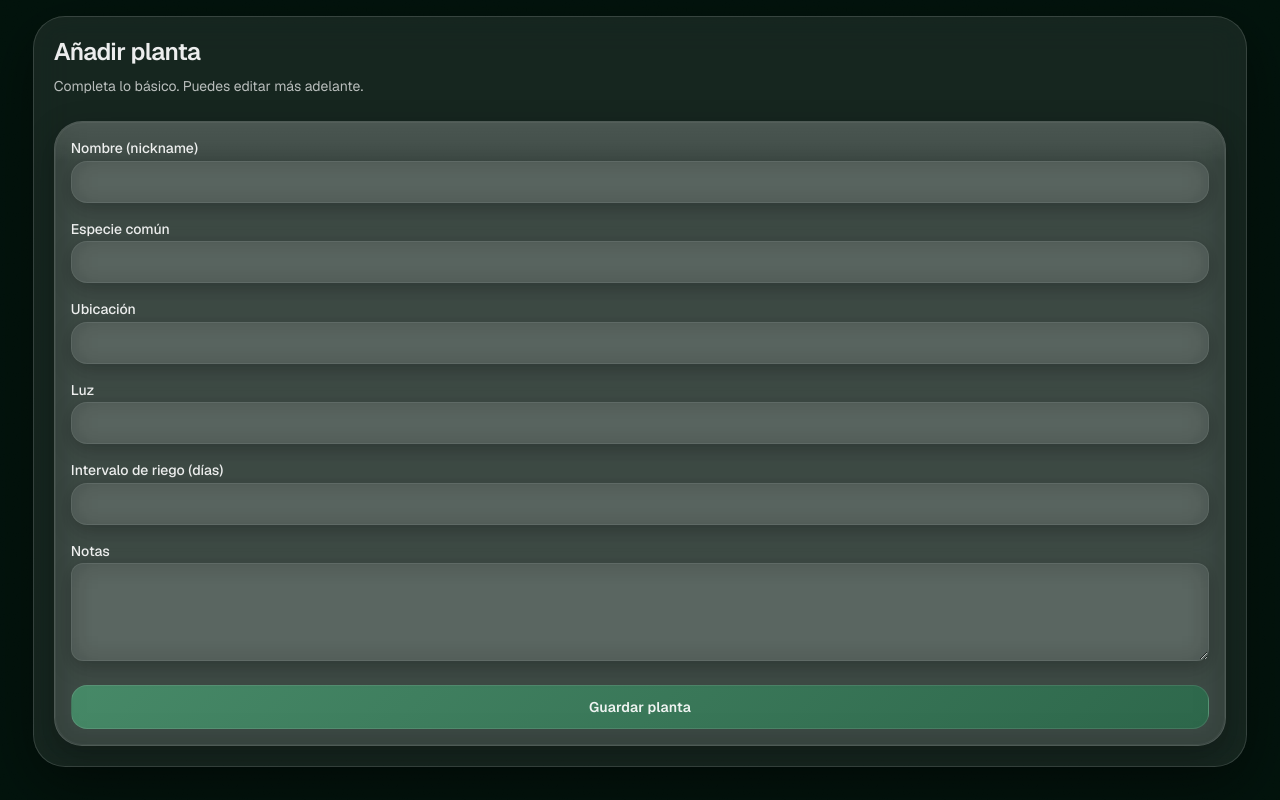
Test: garden/new form validation › validates nickname required and range
Submit the form named "Guardar planta"
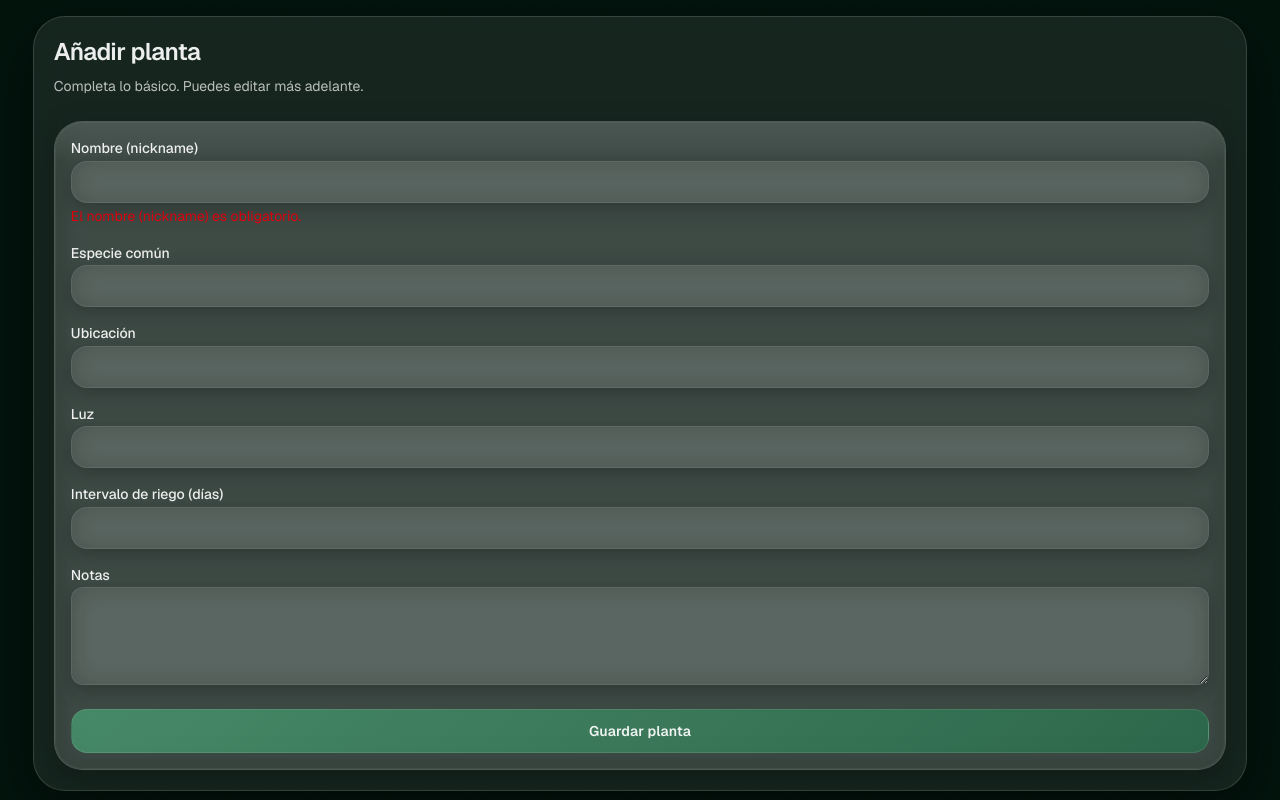
Result: the text "El nombre (nickname) es obligatorio." is shown at [71, 208, 301, 226]
In the field labelled "Nombre (nickname)": coordinates (640, 182) [71, 160, 1209, 202], type "A"
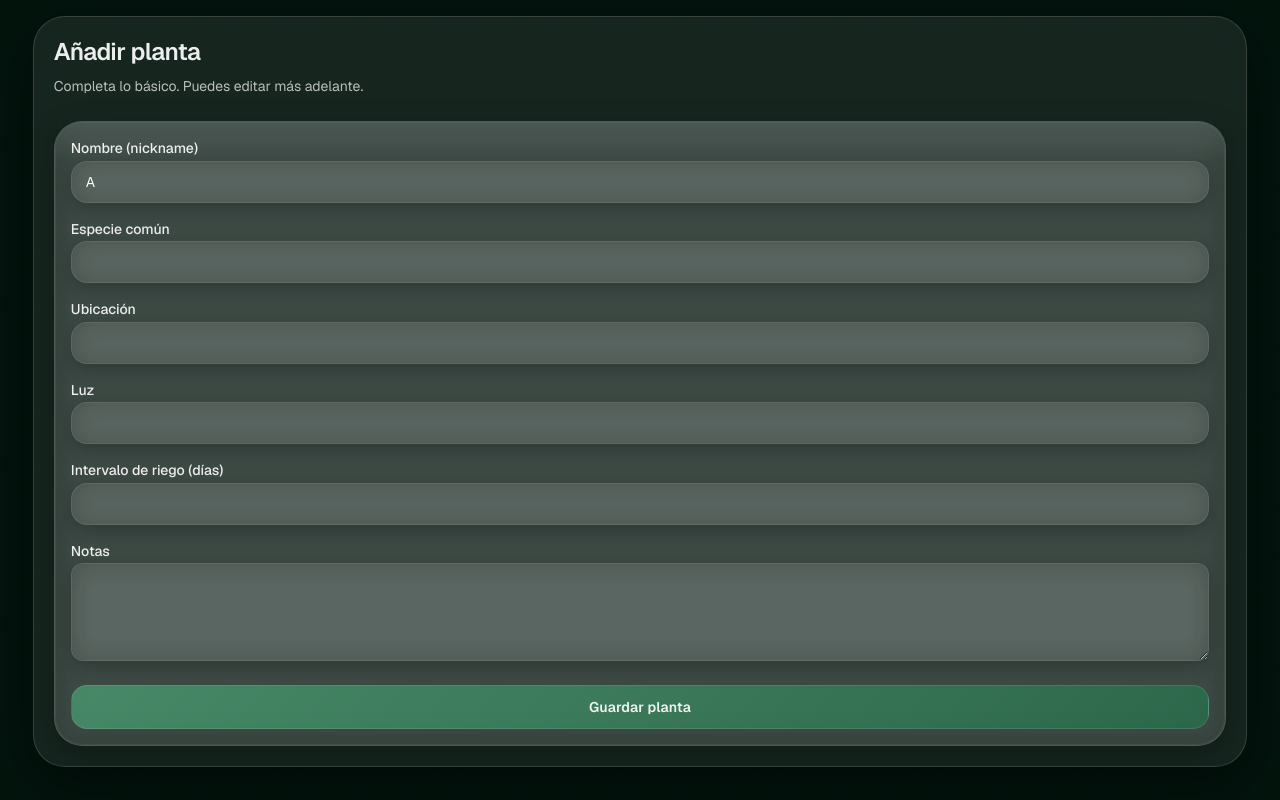
Submit the form named "Guardar planta"
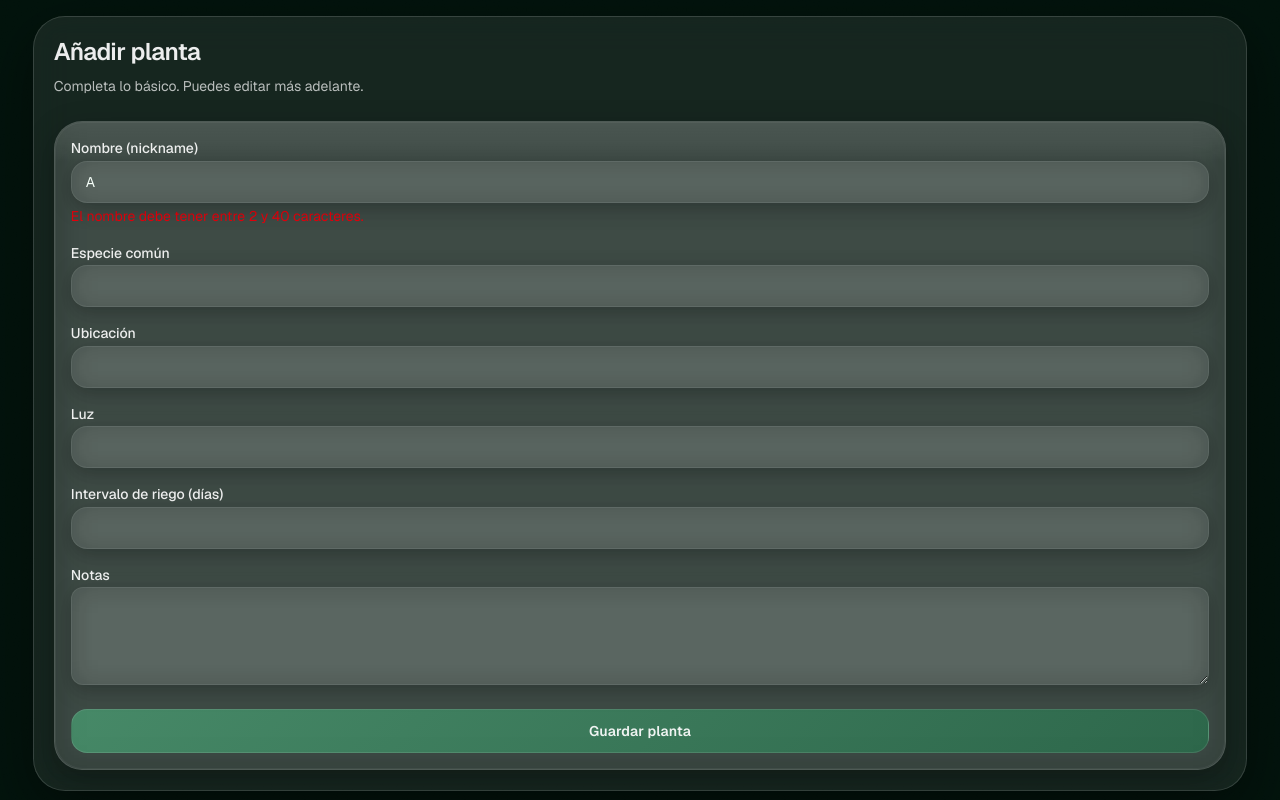
Result: the text "El nombre debe tener entre 2 y 40 caracteres." is shown at [71, 208, 364, 226]
